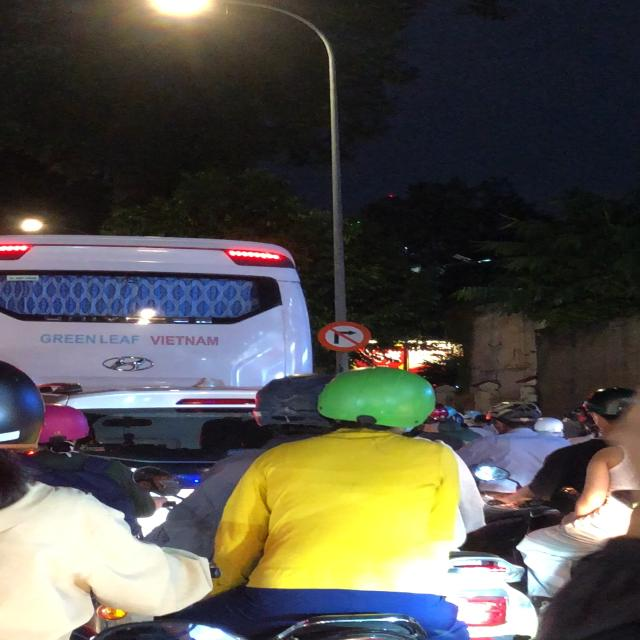Bien bao cam re phai: (313, 319, 378, 355)
